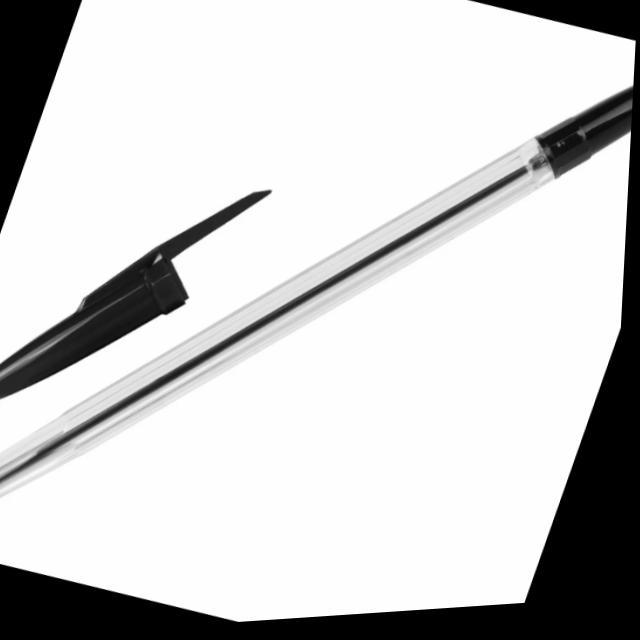pencil: (7, 86, 640, 451)
